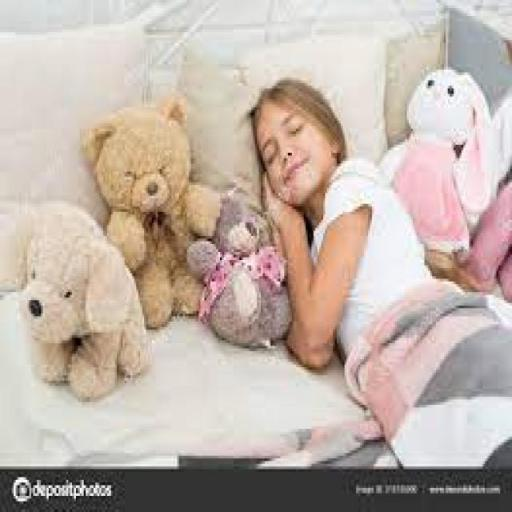baby: (252, 81, 469, 367)
